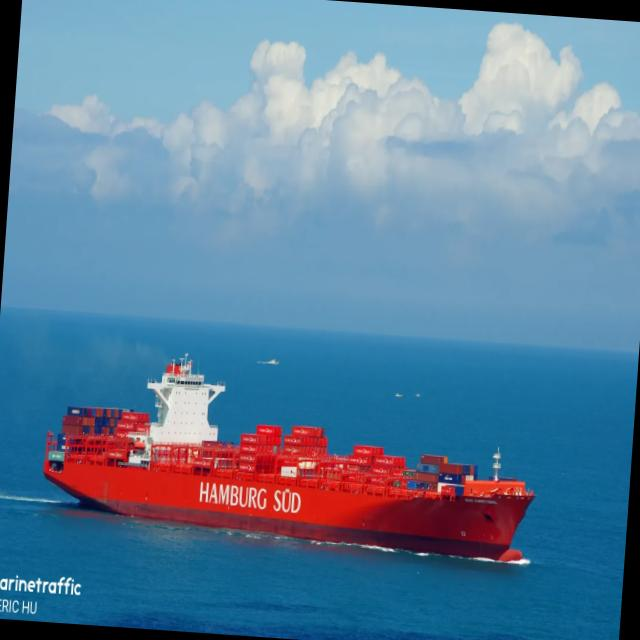Cargo: (43, 354, 534, 560)
